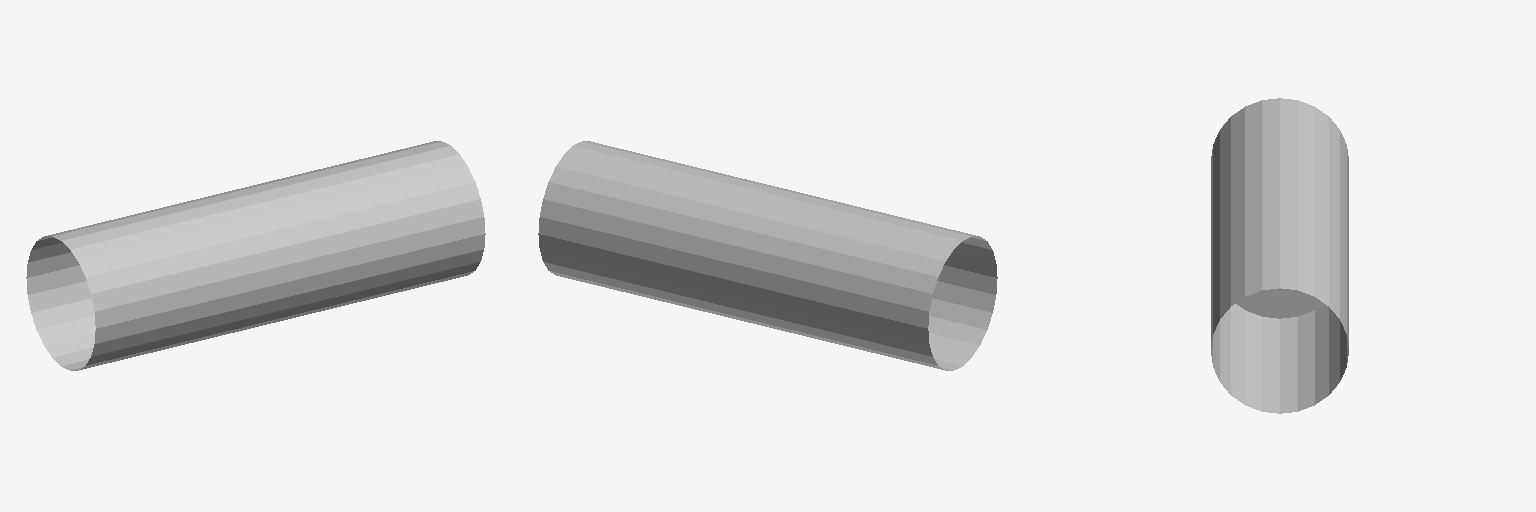
The model's file is original-222.obj.
3 renders of one model, left to right at view 1: azimuth 30°, elevation 25°; view 2: azimuth 150°, elevation 25°; view 3: azimuth 270°, elevation 25°, orthographic.
Parts seen in each view (by area): view 1: #ID1368; view 2: #ID1368; view 3: #ID1368.
Part boxes in pixels (left/top/right/bottom): #ID1368: left=26, top=141, right=485, bottom=370; #ID1368: left=538, top=141, right=997, bottom=370; #ID1368: left=1211, top=98, right=1348, bottom=413.
Bounding box in the file's own units: 0.0196 × 0.006 × 0.006.